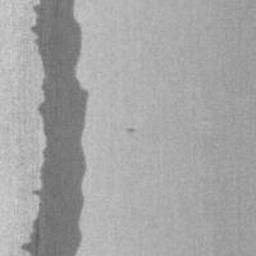Water spot: (18, 0, 91, 256), (125, 127, 137, 136)
